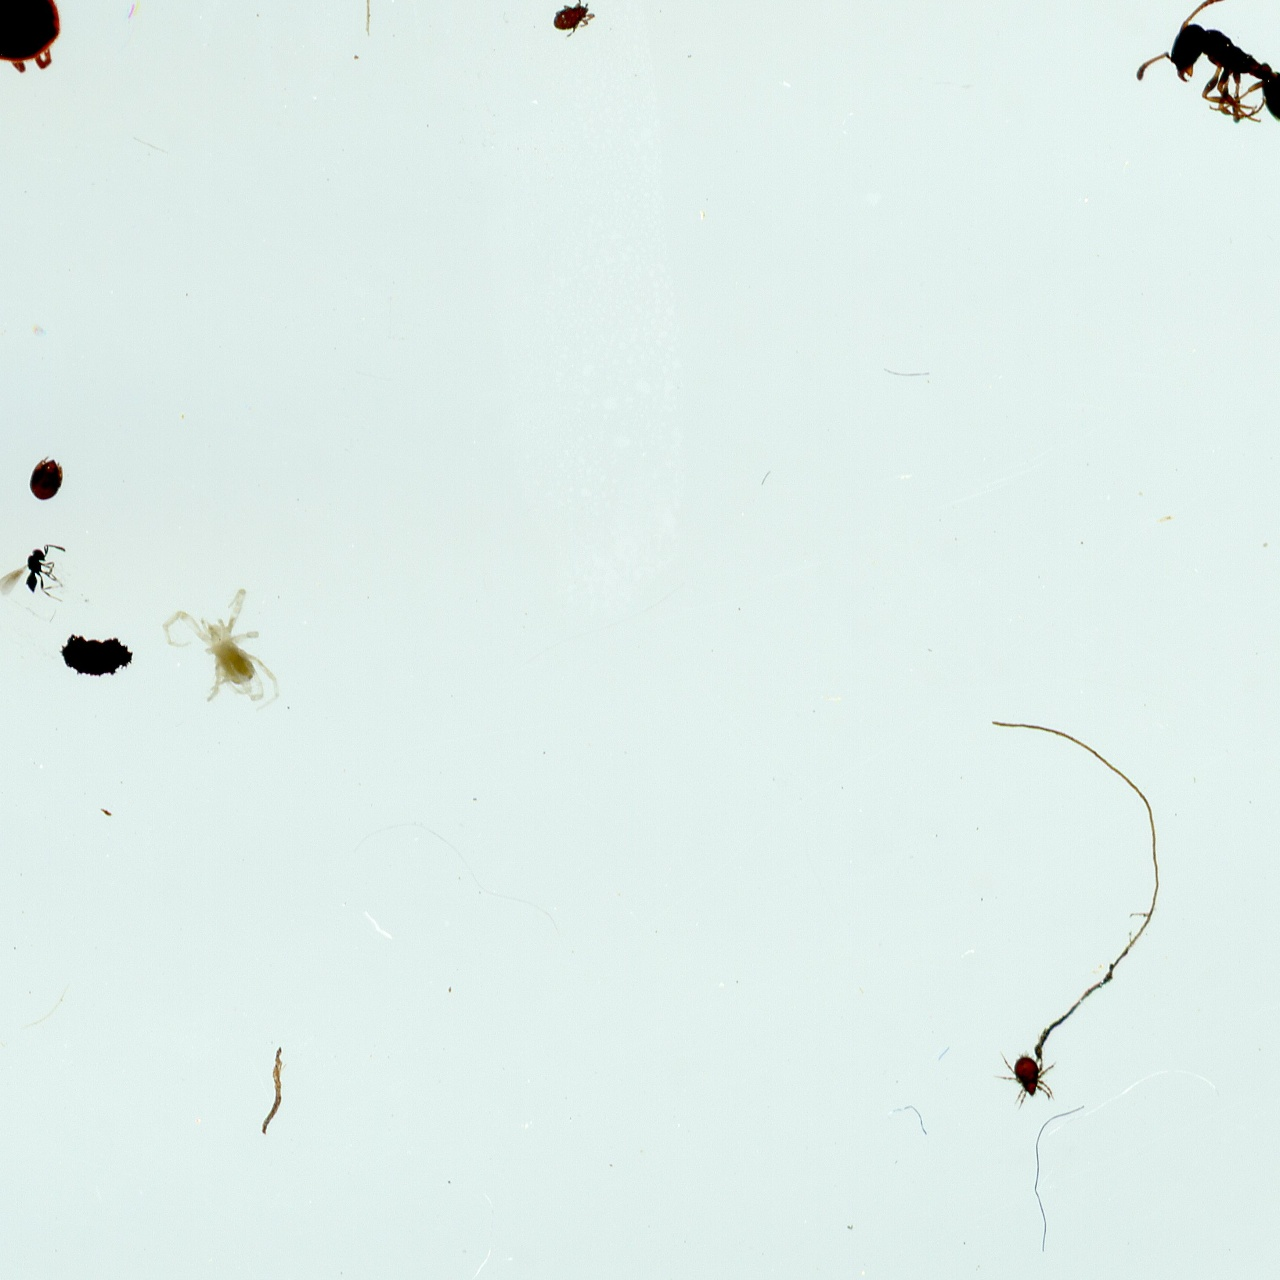arthropod: (1107, 0, 1280, 211), (154, 574, 291, 717), (0, 536, 83, 607), (0, 0, 68, 80), (996, 1040, 1060, 1110), (26, 452, 70, 503), (547, 0, 598, 41)
